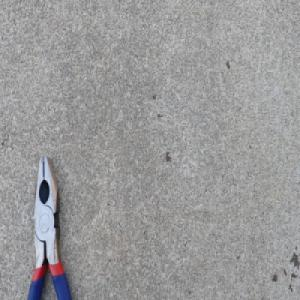Pliers: (25, 149, 71, 300)
